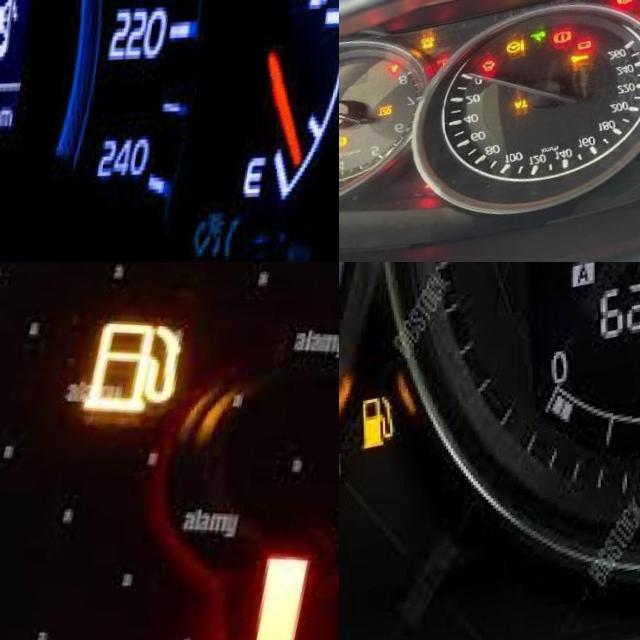Electronic Power Steering: (504, 50, 522, 65)
Seat Belt: (388, 68, 397, 79)
